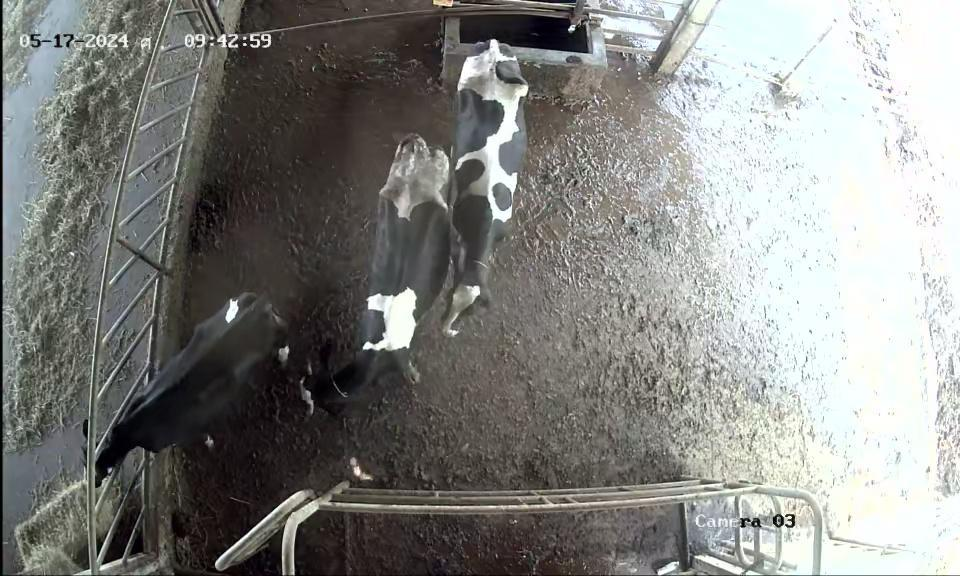eat: (57, 406, 168, 493)
stand: (294, 125, 453, 430), (439, 37, 533, 357)
